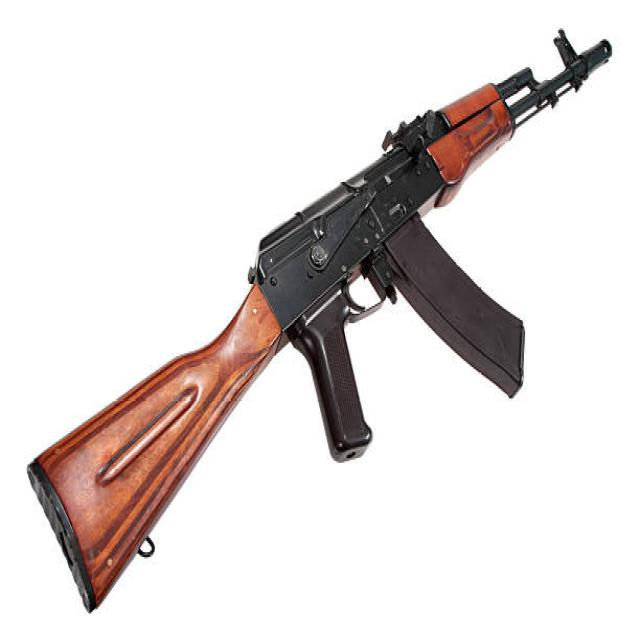rifle: (20, 16, 621, 629)
